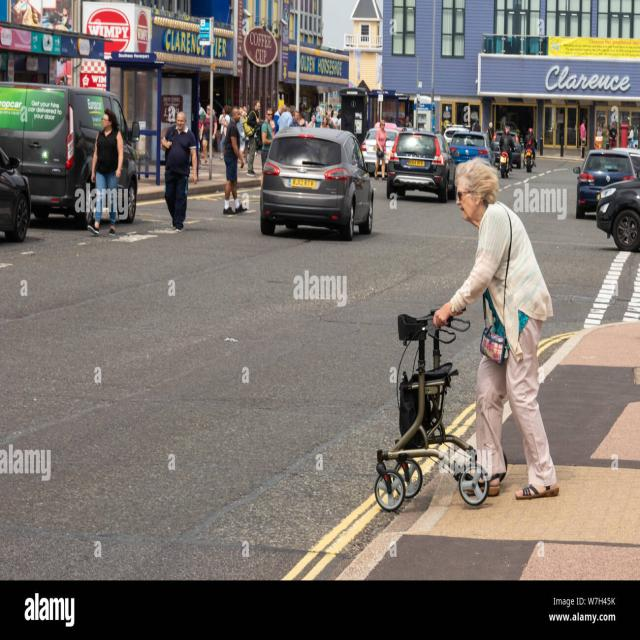idoso em pe: (448, 166, 560, 500)
